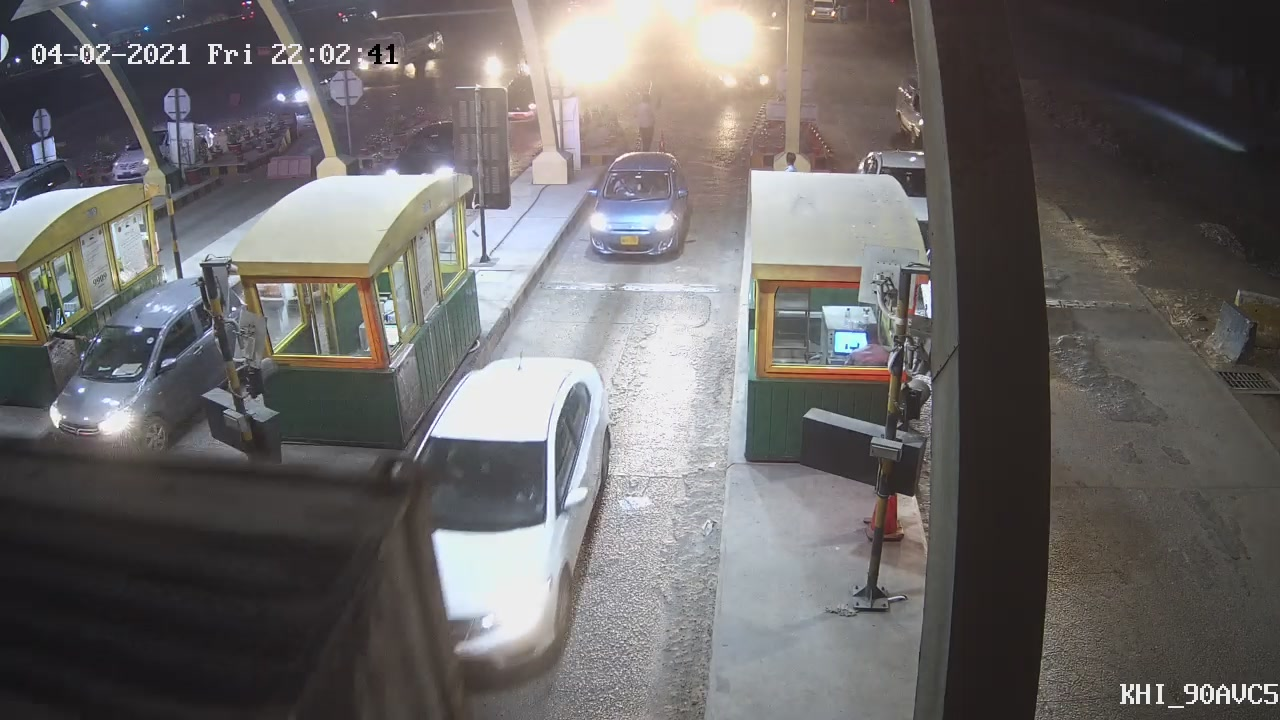F1: (581, 147, 702, 270)
